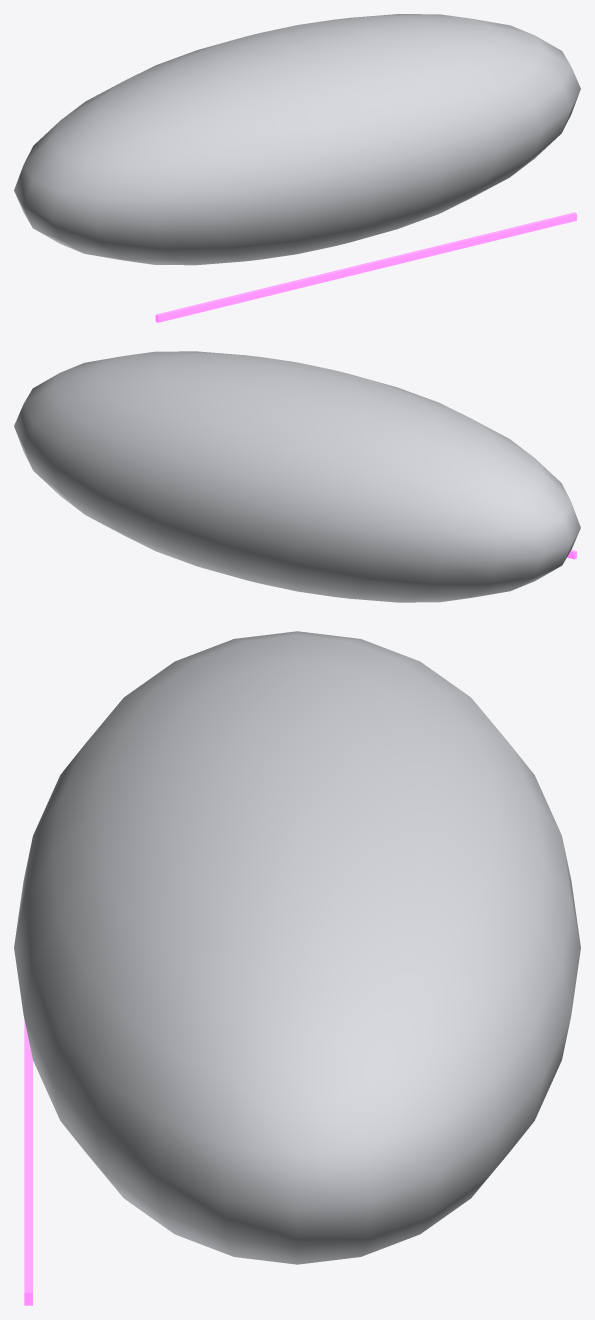
The model's file is bathtub_oval_tub.glb.
3 renders of one model, top to bottom at view 1: azimuth 30°, elevation 25°; view 2: azimuth 150°, elevation 25°; view 3: azimuth 270°, elevation 25°, orthographic. The views are drawn at different scales.
Visible parts, largest first — view 1: GD_bathtub_oval_tub__m0, GD_bathtub_oval_tub__m2; view 2: GD_bathtub_oval_tub__m0; view 3: GD_bathtub_oval_tub__m0, GD_bathtub_oval_tub__m2.
Part boxes in pixels (x1,y1,x2,y2): GD_bathtub_oval_tub__m0: [14, 14, 580, 265]; GD_bathtub_oval_tub__m2: [155, 212, 576, 322]; GD_bathtub_oval_tub__m0: [14, 351, 580, 602]; GD_bathtub_oval_tub__m0: [14, 631, 580, 1264]; GD_bathtub_oval_tub__m2: [24, 1020, 32, 1305].
Bounding box in the file's own units: 1.7 × 0.55 × 0.78.
